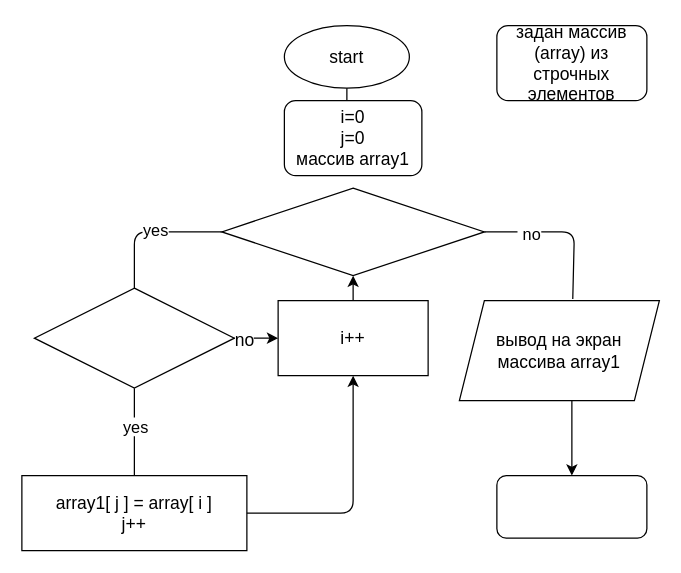
Image size: 681x573. Some labels were removed from this diagram. Each missing label, with the centre of its shape:
"array[ i ].length < 3?" goes at [133,337].
"i < array.Length?" goes at [352,231].
"конец" goes at [571,506].
